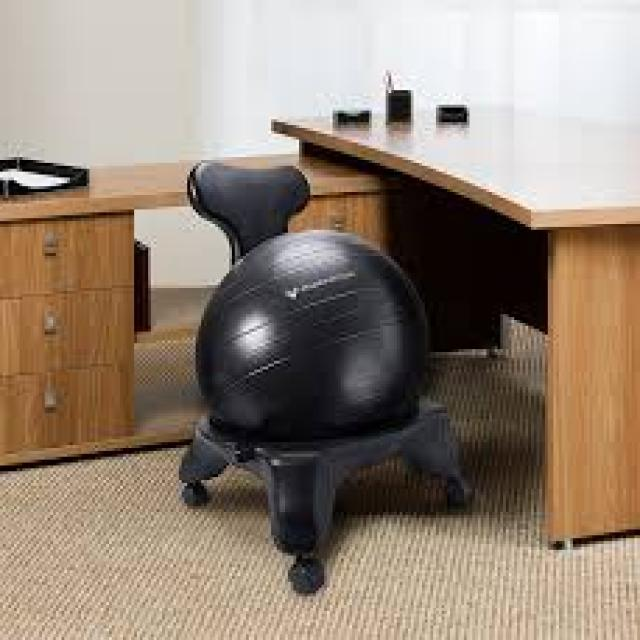chair: (113, 151, 500, 611)
